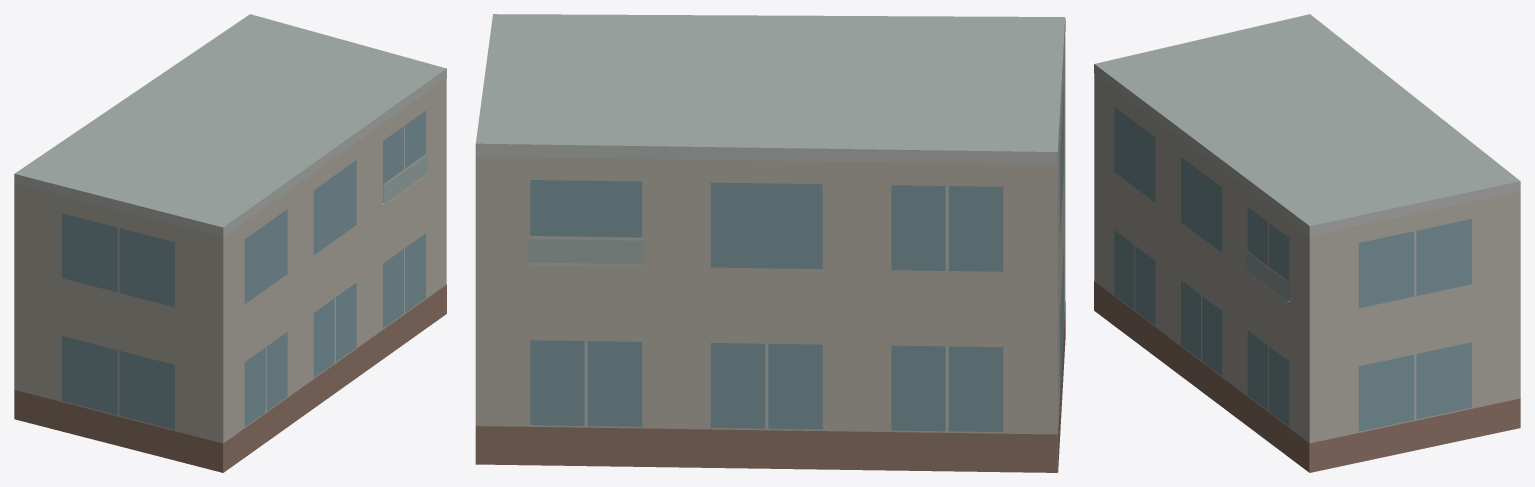
Rendered from survey-upis-32590403.glb.
3 renders of one model, left to right at view 1: azimuth 30°, elevation 25°; view 2: azimuth 150°, elevation 25°; view 3: azimuth 270°, elevation 25°, orthographic. The views are drawn at different scales.
Parts seen in each view (by area): view 1: survey-upis-32590403.tmp; view 2: survey-upis-32590403.tmp; view 3: survey-upis-32590403.tmp.
Boxes of the visible parts, bbox=[...] form: survey-upis-32590403.tmp: bbox=[14, 14, 446, 472]; survey-upis-32590403.tmp: bbox=[475, 14, 1065, 472]; survey-upis-32590403.tmp: bbox=[1094, 14, 1520, 472].
Size of the model in its own units: 11.26 by 6.1 by 9.56.
